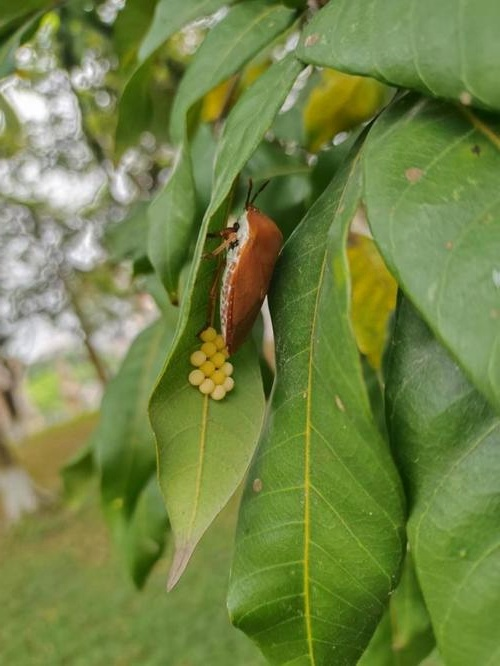Stink_Bug: (181, 188, 287, 399)
